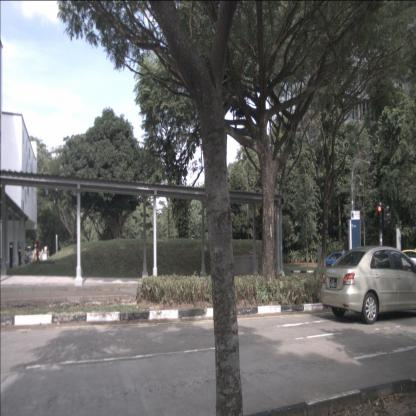vehicle-bicycle: (20, 242, 43, 266)
vehicle-car: (320, 244, 416, 325), (325, 251, 355, 271), (394, 249, 415, 271)
